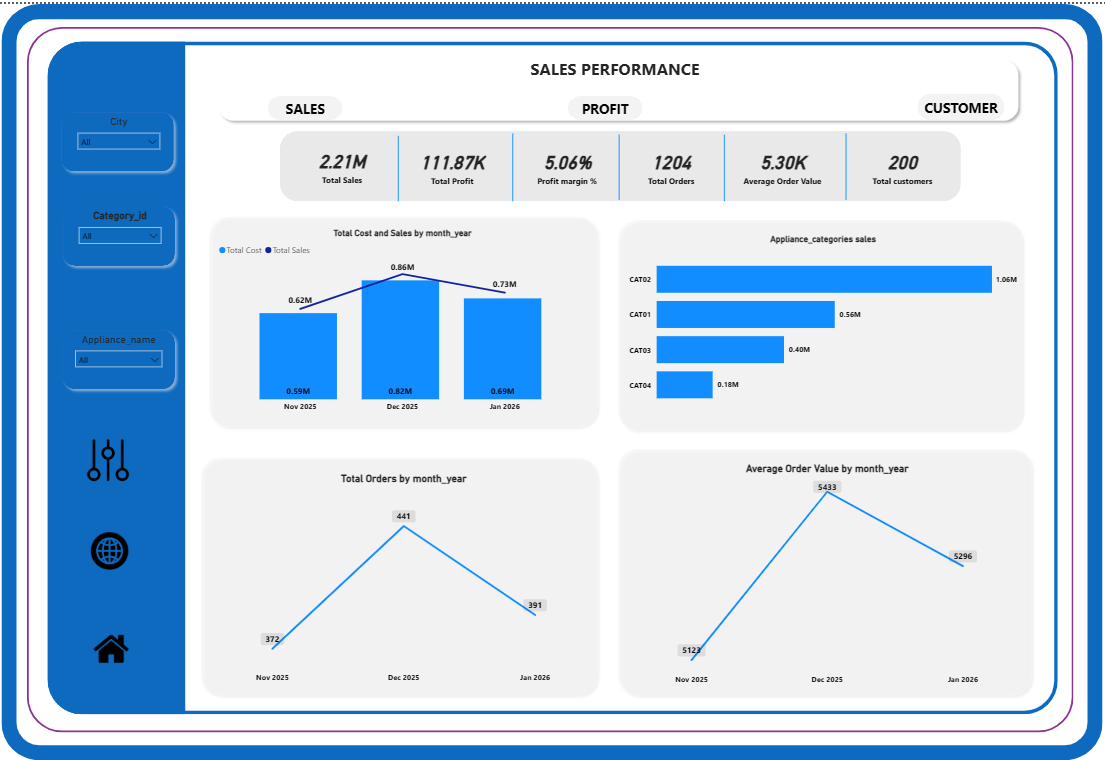

What the dashboard file says about the page in this screenshot:
{"tool":"powerbi","page":{"name":"Page 1","canvas":[1850,1250],"ordinal":0},"visuals":[{"type":"shape","box":[14,0,1820,1250],"z":0},{"type":"shape","box":[474,210,1126,116],"z":1000},{"type":"shape","box":[56,38,1730,1166],"z":2000},{"type":"shape","box":[92,62,1668,1112],"z":3000},{"type":"shape","box":[90,62,228,1112],"z":4000},{"type":"card","fields":{"Values":["Measures Table.Profit margin %"]},"box":[888,224,122,90],"z":5000},{"type":"shape","box":[364,84,1340,118],"z":6000},{"type":"group","id":"g1","title":"Group 1","box":[104,170,204,116],"z":7000},{"type":"group","id":"g2","title":"Group 2","box":[106,326,204,116],"z":8000},{"type":"card","fields":{"Values":["Measures Table.Total Profit"]},"box":[698,224,122,90],"z":9000},{"type":"group","id":"g3","title":"Group 4","box":[106,530,204,116],"z":11000},{"type":"card","fields":{"Values":["Measures Table.Total Sales"]},"box":[516.9,221.9,122,90],"z":12000},{"type":"shape","box":[1024.8,347.4,686,366],"z":13000},{"type":"card","fields":{"Values":["Measures Table.Total customers"]},"box":[1442,224,122,90],"z":14000},{"type":"clusteredBarChart","title":"Appliance_categories sales","fields":{"Y":["Measures Table.Total Sales"],"Category":["vw_clean_products.category_id"]},"box":[1046.8,379.4,652,302],"z":15000},{"type":"shape","box":[348,342,660,366],"z":16000},{"type":"shape","box":[106,530,204,116],"z":16000,"group":"g3"},{"type":"card","fields":{"Values":["Measures Table.Average Order Value"]},"box":[1232,224,146,90],"z":17000},{"type":"slicer","title":"Appliance_name","fields":{"Values":["products.appliance_name"]},"box":[126.5,544,164,88],"z":17000,"group":"g3"},{"type":"shape","box":[104,170,204,116],"z":18000,"group":"g1"},{"type":"lineClusteredColumnComboChart","title":"Total Cost and Sales by month_year","fields":{"Y":["Measures Table.Total Cost"],"Y2":["Measures Table.Total Sales"],"Category":["Dim_Date.month_year"]},"box":[368,370,618,314],"z":18000},{"type":"slicer","title":"City","fields":{"Values":["customers.city"]},"box":[130,184,156,86],"z":19000,"group":"g1"},{"type":"card","fields":{"Values":["Measures Table.Total Orders"]},"box":[1060,224,122,90],"z":19000},{"type":"shape","box":[106,326,204,116],"z":20000,"group":"g2"},{"type":"shape","box":[334,740,674,412],"z":20000},{"type":"shape","box":[1024,726,702,426],"z":21000},{"type":"slicer","title":"Category_id","fields":{"Values":["products.category_id"]},"box":[132.5,340,156,88],"z":22000,"group":"g2"},{"type":"lineChart","fields":{"Category":["Dim_Date.month_year"],"Y":["Measures Table.Total Orders"]},"box":[370,774.5,618,358.1],"z":22000},{"type":"actionButton","title":"SALES","box":[1528,148,144,44],"z":23000},{"type":"textbox","box":[840,84,376,48],"z":24000},{"type":"shape","box":[660,218,20,108],"z":25000},{"type":"actionButton","title":"SALES","box":[950,152,124,40],"z":26000},{"type":"actionButton","title":"SALES","box":[454,152,124,40],"z":27000},{"type":"shape","box":[1398,214,24,110],"z":28000},{"type":"shape","box":[1202,216,14,110],"z":30000},{"type":"shape","box":[1024,216,22,108],"z":31000},{"type":"shape","box":[848,214,22,112],"z":32000},{"type":"lineChart","fields":{"Category":["Dim_Date.month_year"],"Y":["Measures Table.Average Order Value"]},"box":[1060,758,638,378],"z":33000},{"type":"image","box":[154,1032,82,68],"z":34000},{"type":"image","box":[146,868,94,72],"z":35000},{"type":"image","box":[146,714,88,80],"z":35001}]}

Visuals, with their boxes in screenshot pixels (x1, y1, x2, y2), scaled from the page's 1850x1250 canvas onto the 1105x760 screenshot:
shape: 8 0 1095 759
shape: 283 128 956 198
shape: 33 23 1067 732
shape: 55 38 1051 714
shape: 54 38 190 714
card - Measures Table.Profit margin %: 530 136 603 191
shape: 217 51 1018 123
"Group 1" group: 62 103 184 174
"Group 2" group: 63 198 185 269
card - Measures Table.Total Profit: 417 136 490 191
"Group 4" group: 63 322 185 393
card - Measures Table.Total Sales: 309 135 382 190
shape: 612 211 1022 434
card - Measures Table.Total customers: 861 136 934 191
"Appliance_categories sales" clusteredBarChart: 625 231 1015 414
shape: 208 208 602 430
shape: 63 322 185 393
card - Measures Table.Average Order Value: 736 136 823 191
"Appliance_name" slicer: 76 331 174 384
shape: 62 103 184 174
"Total Cost and Sales by month_year" lineClusteredColumnComboChart: 220 225 589 416
"City" slicer: 78 112 171 164
card - Measures Table.Total Orders: 633 136 706 191
shape: 63 198 185 269
shape: 199 450 602 700
shape: 612 441 1031 700
"Category_id" slicer: 79 207 172 260
lineChart - Dim_Date.month_year x Measures Table.Total Orders: 221 471 590 689
"SALES" actionButton: 913 90 999 117
textbox: 502 51 726 80
shape: 394 133 406 198
"SALES" actionButton: 567 92 641 117
"SALES" actionButton: 271 92 345 117
shape: 835 130 849 197
shape: 718 131 726 198
shape: 612 131 625 197
shape: 507 130 520 198
lineChart - Dim_Date.month_year x Measures Table.Average Order Value: 633 461 1014 691
image: 92 627 141 669
image: 87 528 143 572
image: 87 434 140 483
